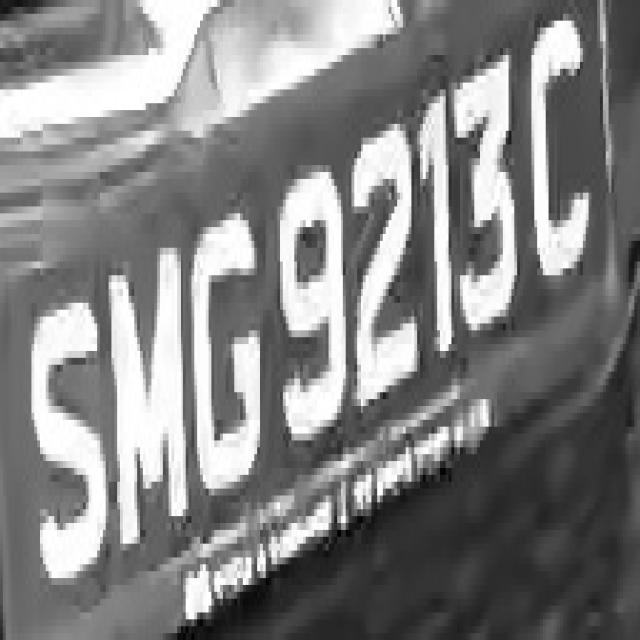1: (406, 96, 466, 378)
2: (340, 117, 426, 420)
3: (443, 62, 517, 358)
9: (266, 158, 357, 454)
C: (523, 7, 594, 289)
G: (180, 186, 271, 523)
M: (112, 234, 195, 571)
S: (20, 262, 114, 598)
